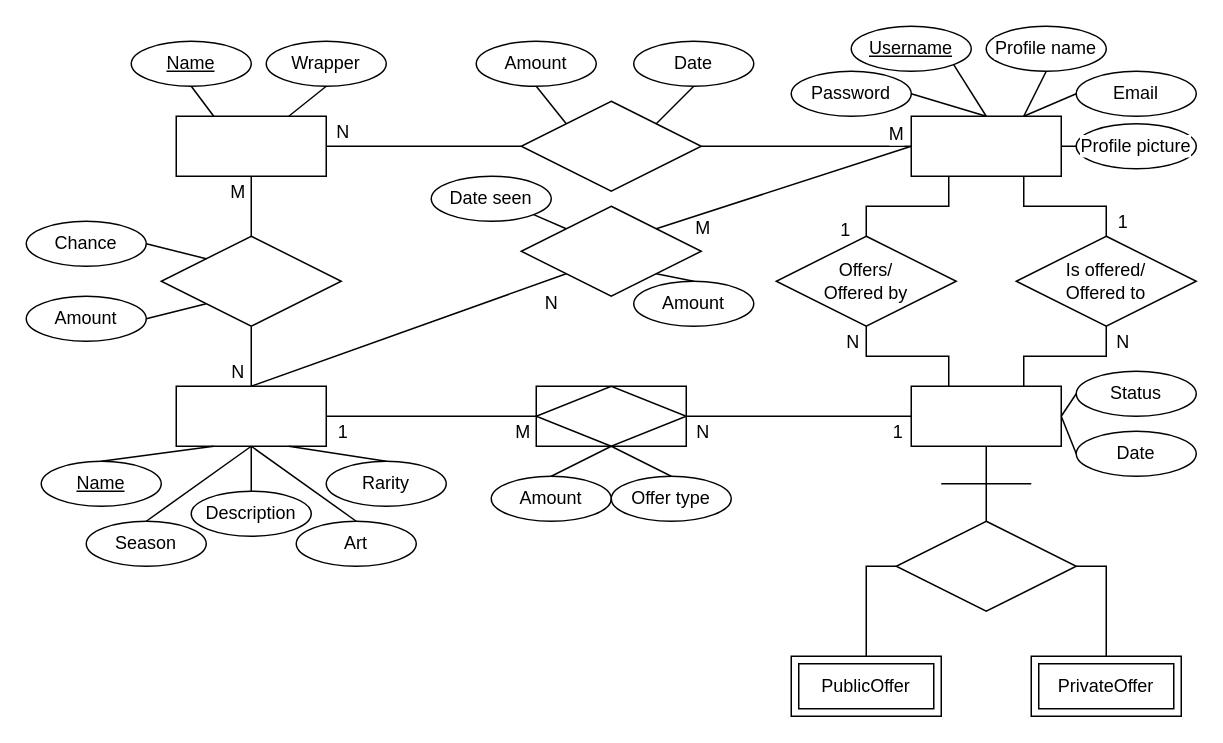
Some shapes in this 1223 by 743 pixel diagram are drawn without their labels. The shapes that lost their labels are listed below. From the top down, each one's centre as x and y in pixels, then its label:
At point 250,145: "CardPackVariant".
At point 610,145: "Opened by/ Open".
At point 985,145: "User".
At point 610,250: "Own/ Owned by".
At point 250,280: "Drop /Dropped by".
At point 250,415: "CardVariant".
At point 610,415: "TradeDetail".
At point 985,415: "TradeOffer".
At point 985,565: "Is a".
